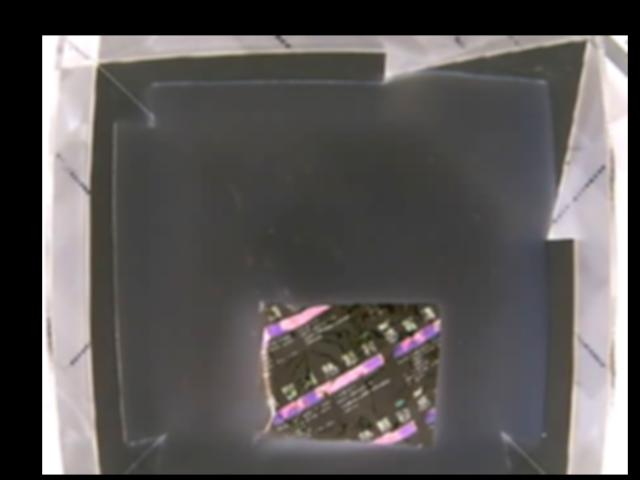Medicine: (252, 293, 440, 450)
